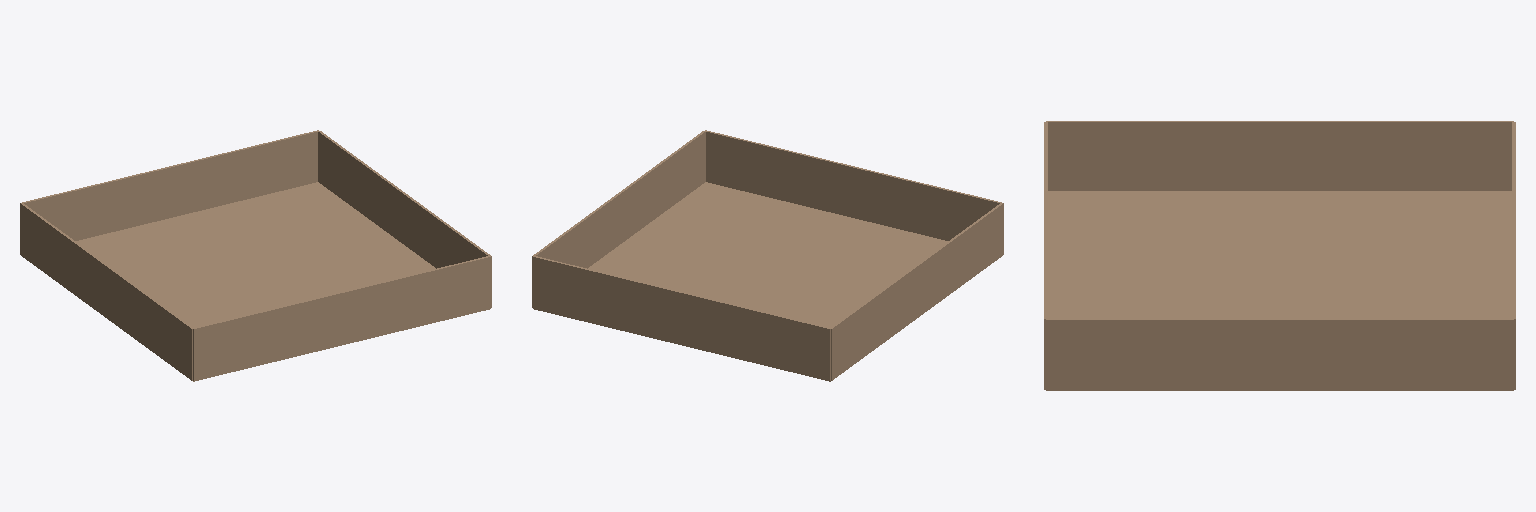
The robot description file, URDF, robot "cardboard_box":
<?xml version="1.0"?>
<robot name="cardboard_box">
  <material name="Cardboard">
    <color rgba="0.7 0.6 0.5 1.0"/>
  </material>
  <link name="box_bottom">
   <inertial>
     <origin xyz="0 0 0" rpy="0 0 0"/>
     <mass value="1"/>
     <inertia ixx="100"  ixy="0"  ixz="0" iyy="100" iyz="0" izz="100" />
   </inertial>

   <visual>
     <origin xyz="0 0 0" rpy="0 0 0" />
     <geometry>
       <box size="0.6 0.6 0.005" />
     </geometry>
     <material name="Cardboard"/>
   </visual>

   <collision>
     <origin xyz="0 0 0" rpy="0 0 0"/>
     <geometry>
       <box size="0.6 0.6 0.005" />
     </geometry>
   </collision>
  </link>
 
  <link name="box_front">
   <inertial>
     <origin xyz="0 0 0" rpy="0 0 0"/>
     <mass value="1"/>
     <inertia ixx="100"  ixy="0"  ixz="0" iyy="100" iyz="0" izz="100" />
   </inertial>

   <visual>
     <origin xyz="0 0 0" rpy="0 0 0" />
     <geometry>
       <box size="0.005 0.6 0.1" />
     </geometry>
     <material name="Cardboard"/>
   </visual>

   <collision>
     <origin xyz="0 0 0" rpy="0 0 0"/>
     <geometry>
       <box size="0.005 0.6 0.1" />
     </geometry>
   </collision>
  </link>
 
  <link name="box_back">
   <inertial>
     <origin xyz="0 0 0" rpy="0 0 0"/>
     <mass value="1"/>
     <inertia ixx="100"  ixy="0"  ixz="0" iyy="100" iyz="0" izz="100" />
   </inertial>

   <visual>
     <origin xyz="0 0 0" rpy="0 0 0" />
     <geometry>
       <box size="0.005 0.6 0.1" />
     </geometry>
     <material name="Cardboard"/>
   </visual>

   <collision>
     <origin xyz="0 0 0" rpy="0 0 0"/>
     <geometry>
       <box size="0.005 0.6 0.1" />
     </geometry>
   </collision>
  </link>
 
  <link name="box_left">
   <inertial>
     <origin xyz="0 0 0" rpy="0 0 0"/>
     <mass value="1"/>
     <inertia ixx="100"  ixy="0"  ixz="0" iyy="100" iyz="0" izz="100" />
   </inertial>

   <visual>
     <origin xyz="0 0 0" rpy="0 0 0" />
     <geometry>
       <box size="0.6 0.005 0.1" />
     </geometry>
     <material name="Cardboard"/>
   </visual>

   <collision>
     <origin xyz="0 0 0" rpy="0 0 0"/>
     <geometry>
       <box size="0.6 0.005 0.1" />
     </geometry>
   </collision>
  </link>
 
  <link name="box_right">
   <inertial>
     <origin xyz="0 0 0" rpy="0 0 0"/>
     <mass value="1"/>
     <inertia ixx="100"  ixy="0"  ixz="0" iyy="100" iyz="0" izz="100" />
   </inertial>

   <visual>
     <origin xyz="0 0 0" rpy="0 0 0" />
     <geometry>
       <box size="0.6 0.005 0.1" />
     </geometry>
     <material name="Cardboard"/>
   </visual>

   <collision>
     <origin xyz="0 0 0" rpy="0 0 0"/>
     <geometry>
       <box size="0.6 0.005 0.1" />
     </geometry>
   </collision>
  </link>

  <joint name="bottom_to_front" type="fixed">
    <origin xyz="0.3 0 0.05"/>
    <parent link="box_bottom"/>
    <child link="box_front"/>
  </joint>
  <joint name="bottom_to_back" type="fixed">
    <origin xyz="-0.3 0 0.05"/>
    <parent link="box_bottom"/>
    <child link="box_back"/>
  </joint>
  <joint name="bottom_to_left" type="fixed">
    <origin xyz="0 0.3 0.05"/>
    <parent link="box_bottom"/>
    <child link="box_left"/>
  </joint>
  <joint name="bottom_to_right" type="fixed">
    <origin xyz="0 -0.3 0.05"/>
    <parent link="box_bottom"/>
    <child link="box_right"/>
  </joint>
</robot>

--- Facts derived from the render (not from the file) ---
The picture shows the robot from 3 angles, left to right: view 1: azimuth 30°, elevation 25°; view 2: azimuth 150°, elevation 25°; view 3: azimuth 270°, elevation 25°; orthographic projection.
Robot: cardboard_box — 5 links, 4 joints (4 fixed); root link box_bottom; default pose: all joints at 0.
Links seen in each view (by area): view 1: box_bottom, box_right, box_left, box_back, box_front; view 2: box_bottom, box_left, box_right, box_back, box_front; view 3: box_bottom, box_front, box_back, box_left, box_right.
Link boxes in pixels (x1,y1,x2,y2): box_bottom: [27, 182, 489, 381]; box_right: [193, 256, 490, 380]; box_left: [22, 130, 318, 240]; box_back: [20, 203, 193, 380]; box_front: [318, 131, 491, 307]; box_bottom: [534, 182, 996, 381]; box_left: [533, 256, 830, 380]; box_right: [705, 130, 1001, 240]; box_back: [830, 203, 1003, 380]; box_front: [532, 131, 705, 307]; box_bottom: [1046, 191, 1513, 390]; box_front: [1046, 318, 1513, 389]; box_back: [1046, 121, 1513, 190]; box_left: [1512, 122, 1515, 389]; box_right: [1044, 122, 1047, 389].
Size in the robot's own frame: 0.605 by 0.605 by 0.1025 metres.
Geometry: primitives only (box / cylinder / sphere), no mesh files.
